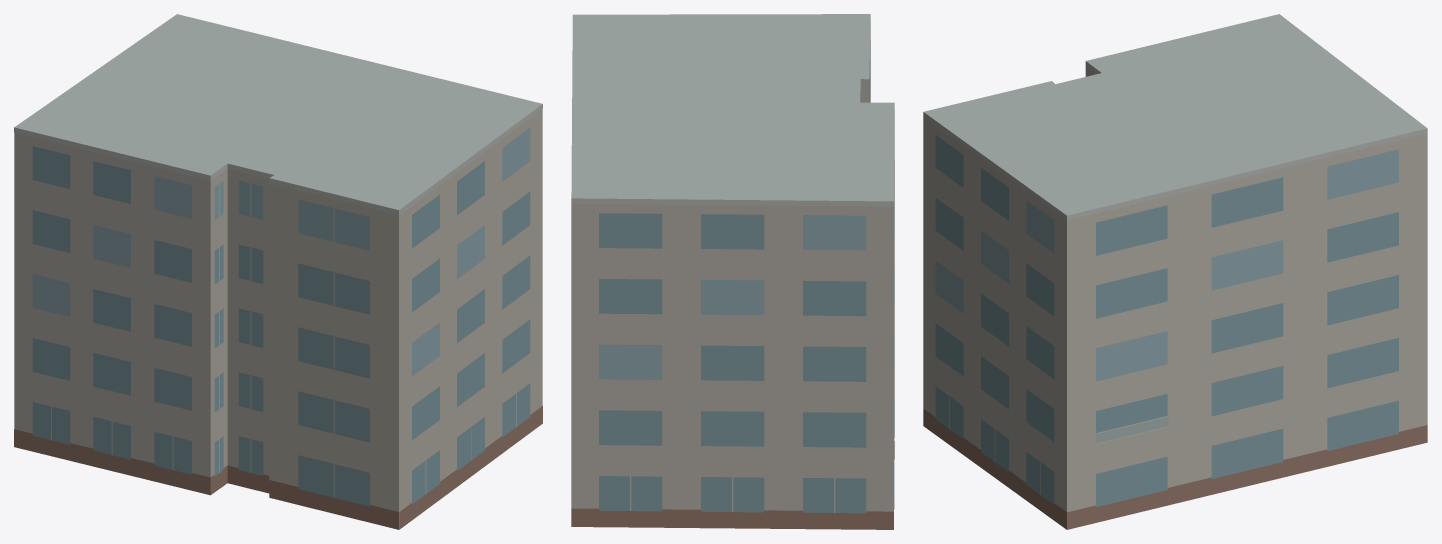
Rendered from survey-upis-32671140.glb.
3 views of the same model, side by side, from view 1: azimuth 30°, elevation 25°; view 2: azimuth 150°, elevation 25°; view 3: azimuth 270°, elevation 25° (orthographic). The views are drawn at different scales.
Visible parts, largest first — view 1: survey-upis-32671140.tmp; view 2: survey-upis-32671140.tmp; view 3: survey-upis-32671140.tmp.
Boxes of the visible parts, x1,y1,x2,y2 form: survey-upis-32671140.tmp: (14,14,542,529); survey-upis-32671140.tmp: (571,14,894,529); survey-upis-32671140.tmp: (923,14,1427,529).
Bounding box in the file's own units: 20.94 × 15.2 × 22.12.
